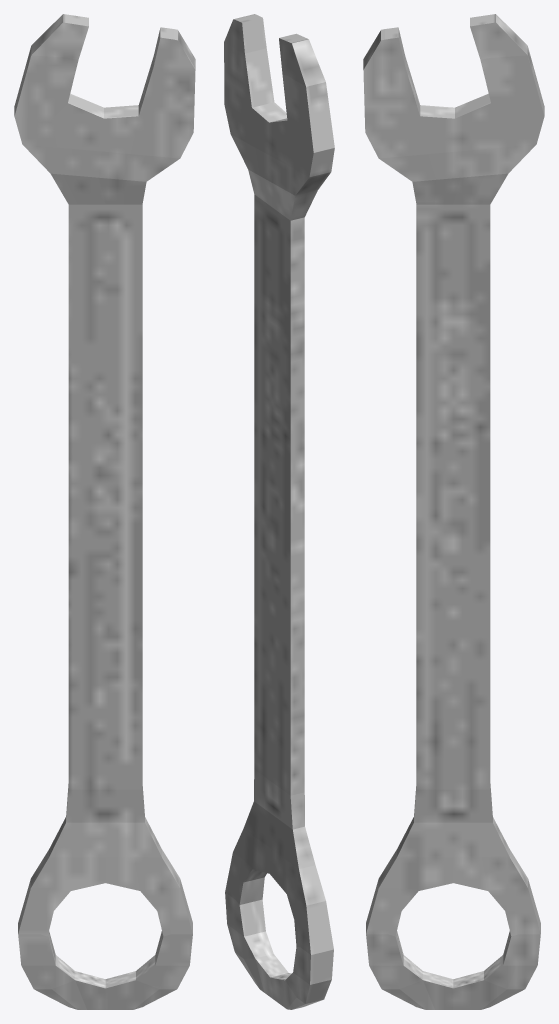
File: Spanner.fbx
3 renders of one model, left to right at view 1: azimuth 90°, elevation 25°; view 2: azimuth 210°, elevation 25°; view 3: azimuth 270°, elevation 25°, orthographic.
Parts seen in each view (by area): view 1: Spanner; view 2: Spanner; view 3: Spanner.
Part boxes in pixels (box(x1,y1,x2,y2)): Spanner: box(14, 14, 195, 1009); Spanner: box(224, 14, 334, 1009); Spanner: box(363, 14, 544, 1009).
Size of the model in its own units: 47.81 by 1826 by 303.
1 material, 1 textured.
